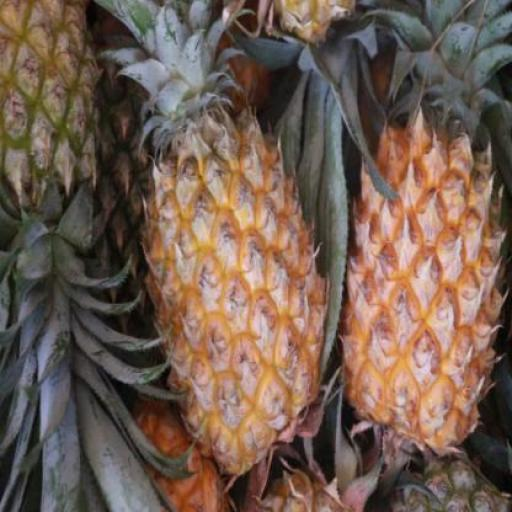Pineapple - v8 v1: (139, 115, 332, 476), (346, 124, 501, 462)
